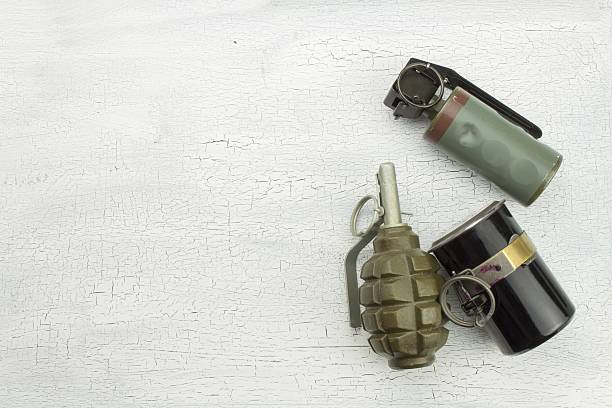e1: (385, 47, 562, 205), (345, 161, 448, 376), (434, 204, 574, 359)
